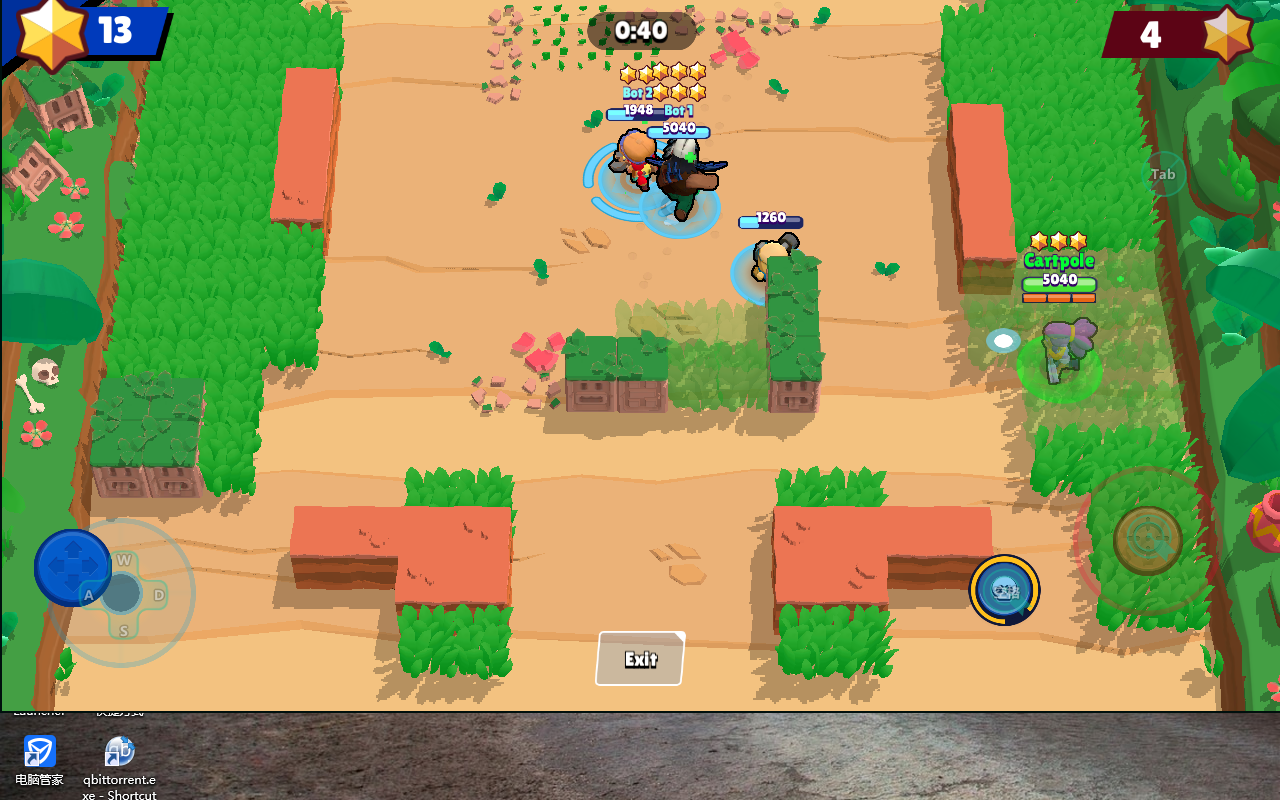current_player: (1016, 334, 1102, 403)
